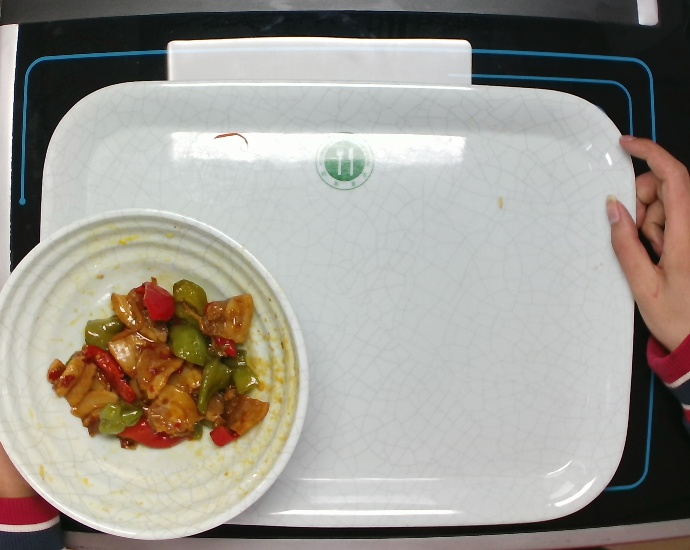JYsf-Da_Tang_Wan: (1, 203, 311, 542)
